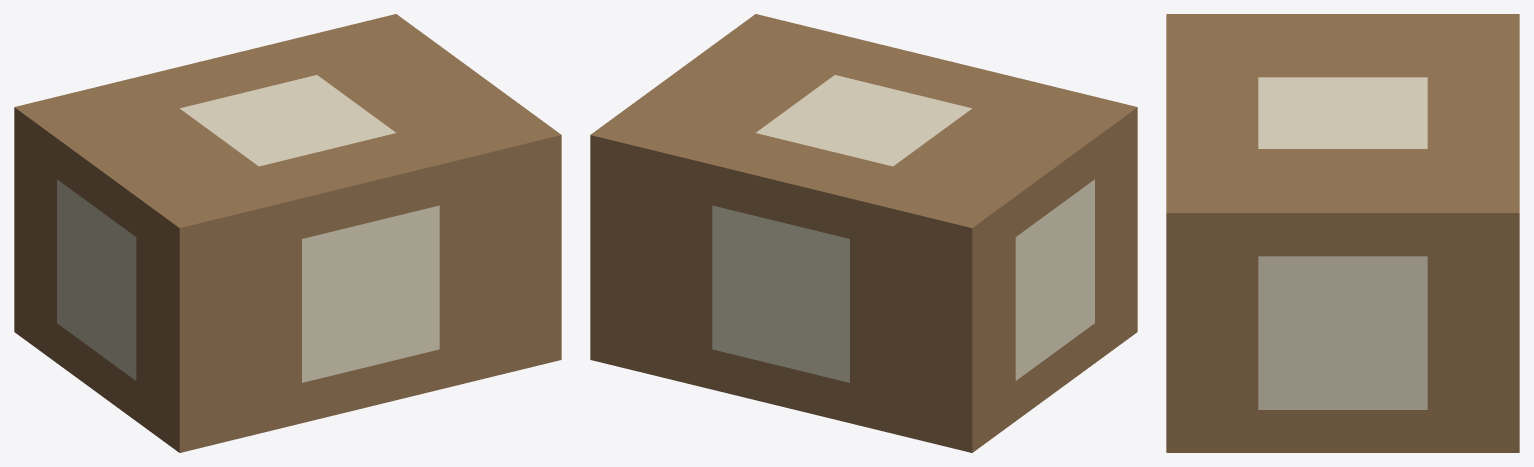
The model's file is SM_StorageLabelBoxLarge.fbx.
3 views of the same model, side by side, from view 1: azimuth 30°, elevation 25°; view 2: azimuth 150°, elevation 25°; view 3: azimuth 270°, elevation 25° (orthographic). The views are drawn at different scales.
Visible parts, largest first — view 1: SM_StorageLabelBoxLarge; view 2: SM_StorageLabelBoxLarge; view 3: SM_StorageLabelBoxLarge.
Boxes of the visible parts, x1,y1,x2,y2 form: SM_StorageLabelBoxLarge: (14,14,561,452); SM_StorageLabelBoxLarge: (590,14,1137,452); SM_StorageLabelBoxLarge: (1166,14,1519,452).
Bounding box in the file's own units: 0.8014 × 0.6014 × 0.4507.
